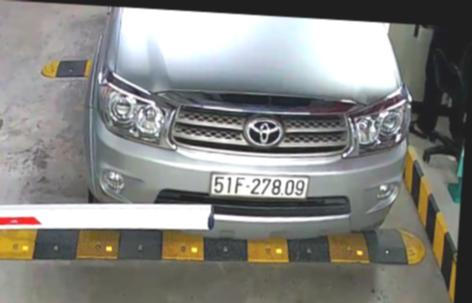License_Plate: (209, 169, 313, 202)
